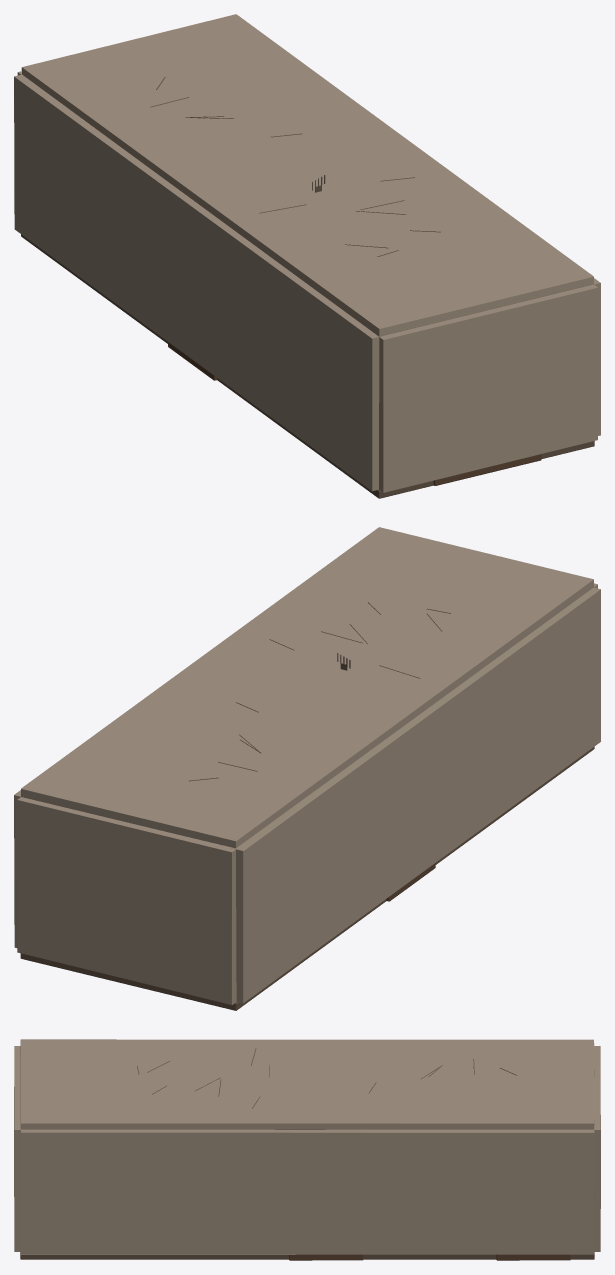
File: gf_west_wing_hall.glb
The picture shows the model from 3 angles, top to bottom: view 1: azimuth 30°, elevation 25°; view 2: azimuth 150°, elevation 25°; view 3: azimuth 270°, elevation 25°; orthographic projection. The views are drawn at different scales.
Parts seen in each view (by area): view 1: Mesh_ClayWall_GF_WestWingHall_LowCeiling, Wall_GF_WestWingHall_West, Wall_GF_WestWingHall_South, Mesh_ClayStone_GF_WestWingHall_FloorBoards, Mesh_ClayWood_WestWingToEntrance_OpenFrame; view 2: Mesh_ClayWall_GF_WestWingHall_LowCeiling, Wall_GF_WestWingHall_West, Wall_GF_WestWingHall_North, Mesh_ClayStone_GF_WestWingHall_FloorBoards, Wall_GF_WestWingHall_East; view 3: Wall_GF_WestWingHall_East, Mesh_ClayWall_GF_WestWingHall_LowCeiling, Mesh_ClayStone_GF_WestWingHall_FloorBoards, Wall_GF_WestWingHall_South, Wall_GF_WestWingHall_North, Mesh_ClayWood_WestHallToKitchen_OpenFrame, Mesh_ClayWood_WestHallToDining_OpenFrame.
Boxes of the visible parts, x1,y1,x2,y2 form: Mesh_ClayWall_GF_WestWingHall_LowCeiling: (21, 14, 593, 336); Wall_GF_WestWingHall_West: (14, 74, 379, 491); Wall_GF_WestWingHall_South: (379, 284, 597, 492); Mesh_ClayStone_GF_WestWingHall_FloorBoards: (21, 234, 594, 498); Mesh_ClayWood_WestWingToEntrance_OpenFrame: (433, 454, 541, 485); Mesh_ClayWall_GF_WestWingHall_LowCeiling: (21, 527, 593, 848); Wall_GF_WestWingHall_West: (231, 587, 600, 1003); Wall_GF_WestWingHall_North: (17, 797, 236, 1005); Mesh_ClayStone_GF_WestWingHall_FloorBoards: (20, 747, 594, 1010); Wall_GF_WestWingHall_East: (14, 790, 26, 947); Wall_GF_WestWingHall_East: (21, 1129, 594, 1254); Mesh_ClayWall_GF_WestWingHall_LowCeiling: (20, 1039, 594, 1129); Mesh_ClayStone_GF_WestWingHall_FloorBoards: (20, 1252, 594, 1259); Wall_GF_WestWingHall_South: (14, 1046, 25, 1251); Wall_GF_WestWingHall_North: (594, 1046, 600, 1251); Mesh_ClayWood_WestHallToKitchen_OpenFrame: (496, 1254, 570, 1260); Mesh_ClayWood_WestHallToDining_OpenFrame: (289, 1254, 363, 1260).
Size of the model in its own units: 4.51 by 3.48 by 12.46.
